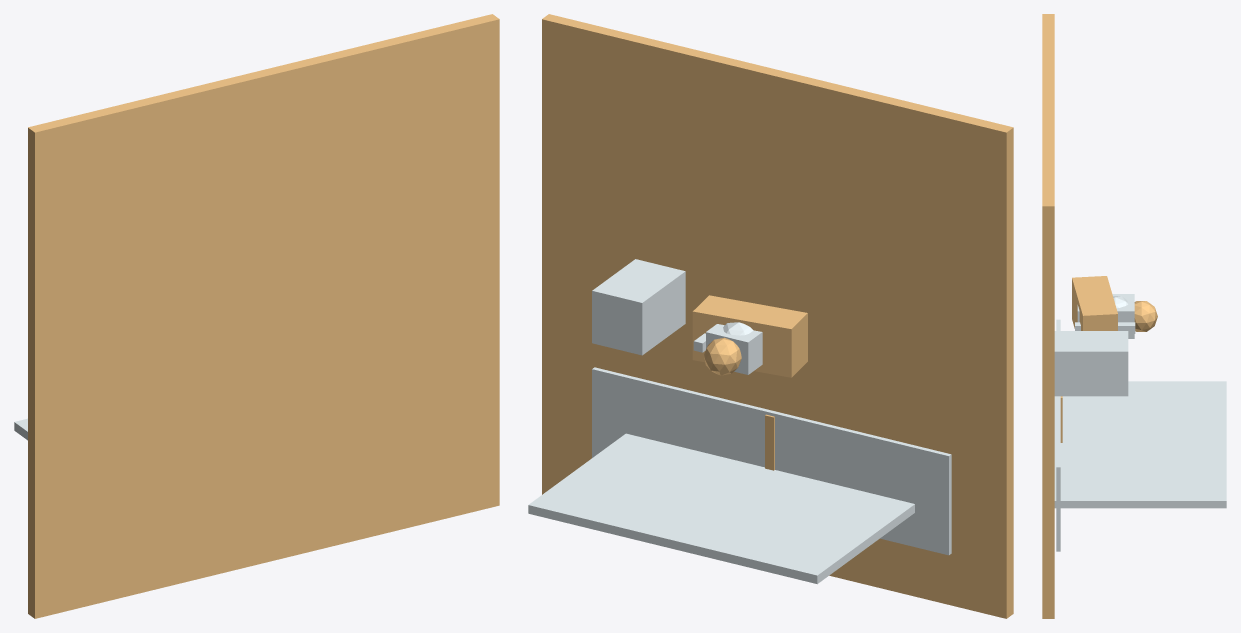
The model's file is pro-wrestling-empire-kit.glb.
3 renders of one model, left to right at view 1: azimuth 30°, elevation 25°; view 2: azimuth 150°, elevation 25°; view 3: azimuth 270°, elevation 25°, orthographic. The views are drawn at different scales.
Visible parts, largest first — view 1: ENVIRONMENT_GROUND; view 2: ENVIRONMENT_GROUND, ENVIRONMENT_GATE, PROFILE_ENVIRONMENT_DETAIL, PROFILE_OBSTACLE_DETAIL, PLAYER_BODY, PROFILE_PLAYER_DETAIL, PROFILE_PLAYER_HEAD; view 3: ENVIRONMENT_GATE, ENVIRONMENT_GROUND, PROFILE_OBSTACLE_DETAIL, PLAYER_BODY, PROFILE_ENVIRONMENT_DETAIL, PROFILE_PLAYER_HEAD, PROFILE_PLAYER_DETAIL.
Boxes of the visible parts, x1,y1,x2,y2 form: ENVIRONMENT_GROUND: (28, 14, 499, 618); ENVIRONMENT_GROUND: (542, 14, 1013, 618); ENVIRONMENT_GATE: (528, 433, 914, 584); PROFILE_ENVIRONMENT_DETAIL: (592, 367, 951, 555); PROFILE_OBSTACLE_DETAIL: (592, 259, 685, 355); PLAYER_BODY: (692, 295, 807, 377); PROFILE_PLAYER_DETAIL: (706, 324, 762, 374); PROFILE_PLAYER_HEAD: (704, 337, 741, 375); ENVIRONMENT_GATE: (1054, 381, 1226, 508); ENVIRONMENT_GROUND: (1042, 14, 1054, 618); PROFILE_OBSTACLE_DETAIL: (1054, 331, 1128, 396); PLAYER_BODY: (1072, 276, 1117, 330); PROFILE_ENVIRONMENT_DETAIL: (1056, 319, 1060, 551); PROFILE_PLAYER_HEAD: (1134, 301, 1157, 331); PROFILE_PLAYER_DETAIL: (1077, 294, 1134, 338).
Size of what is drawn, in the model's own units: 9 by 9 by 3.64.
